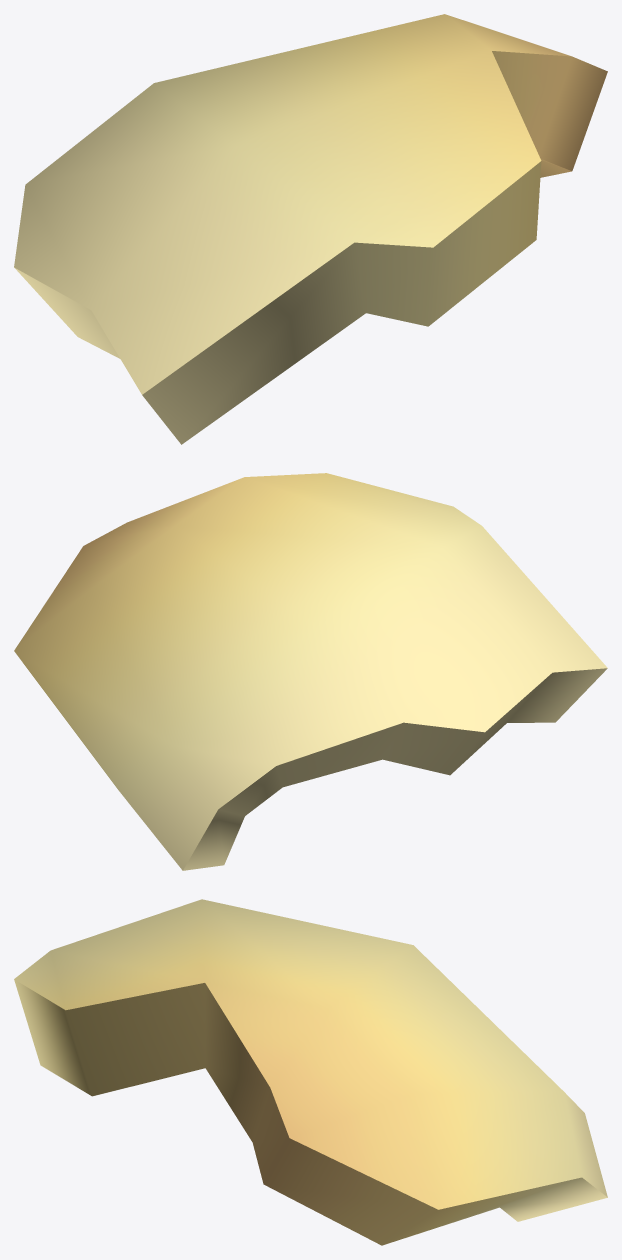
Rendered from Egg_Particle_Grey_003.fbx.
The picture shows the model from 3 angles, top to bottom: view 1: azimuth 30°, elevation 25°; view 2: azimuth 150°, elevation 25°; view 3: azimuth 270°, elevation 25°; orthographic projection. The views are drawn at different scales.
Parts seen in each view (by area): view 1: Egg_Particle_Grey_003; view 2: Egg_Particle_Grey_003; view 3: Egg_Particle_Grey_003.
Boxes of the visible parts, bbox=[...] form: Egg_Particle_Grey_003: bbox=[14, 14, 607, 444]; Egg_Particle_Grey_003: bbox=[14, 473, 607, 870]; Egg_Particle_Grey_003: bbox=[14, 899, 607, 1245].
Bounding box in the file's own units: 1.17 × 0.6551 × 1.16.
